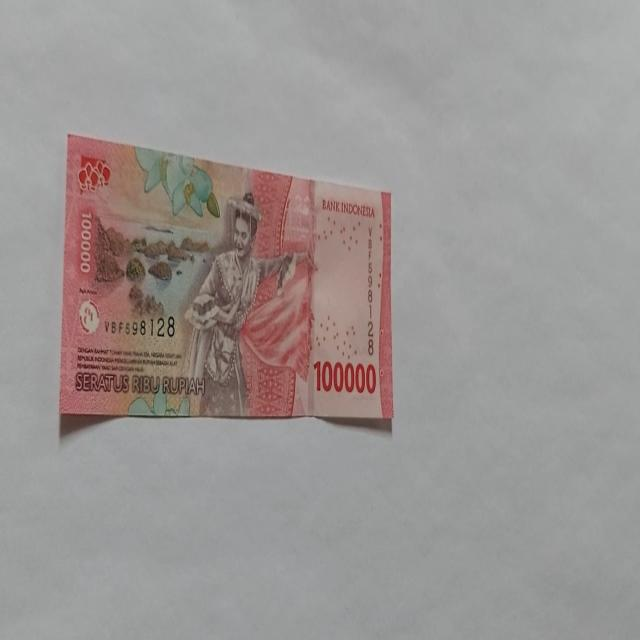seratus ribu rupiah: (58, 133, 394, 426), (179, 190, 315, 417)
